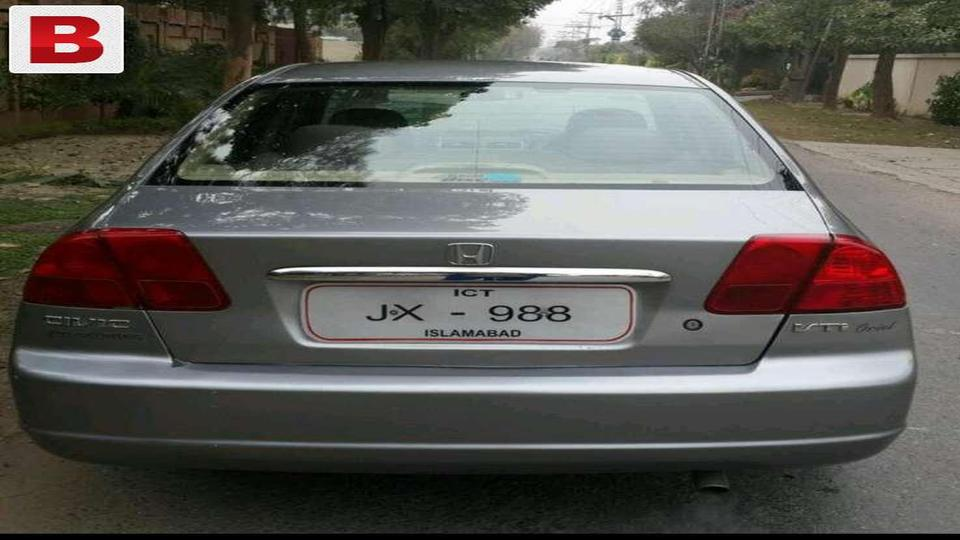NumberPlate: (298, 280, 636, 345)
